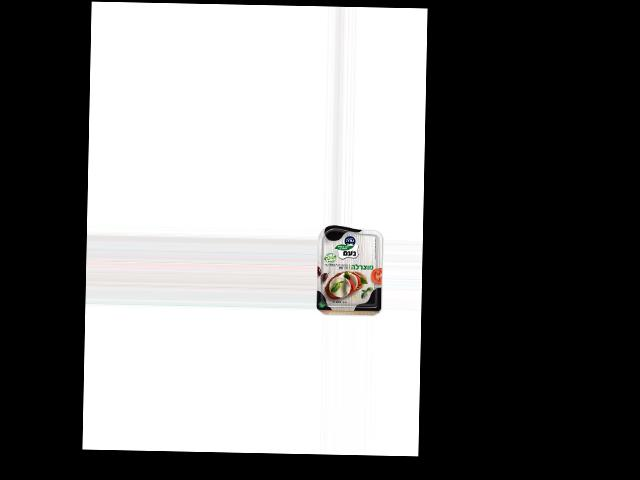cheese: (316, 226, 383, 312)
